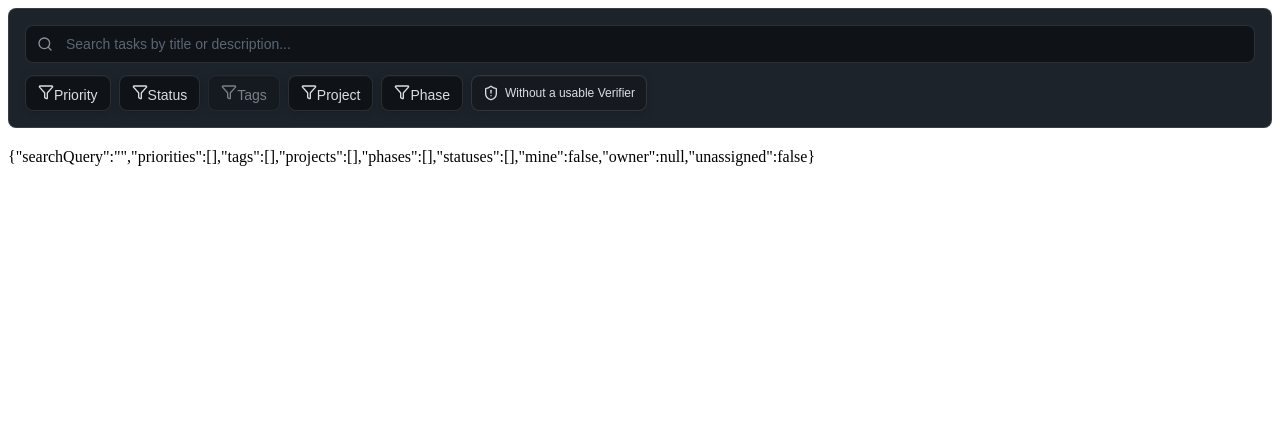
Test: "Search phases" — the Project search’s behaviour, on name and number › the clear button empties the query and returns focus to the box
This screenshot has width=1280, height=442.
Step 1. Click the button "Phase" → (422, 93), box [381,75,463,111]
Wait 20 ms
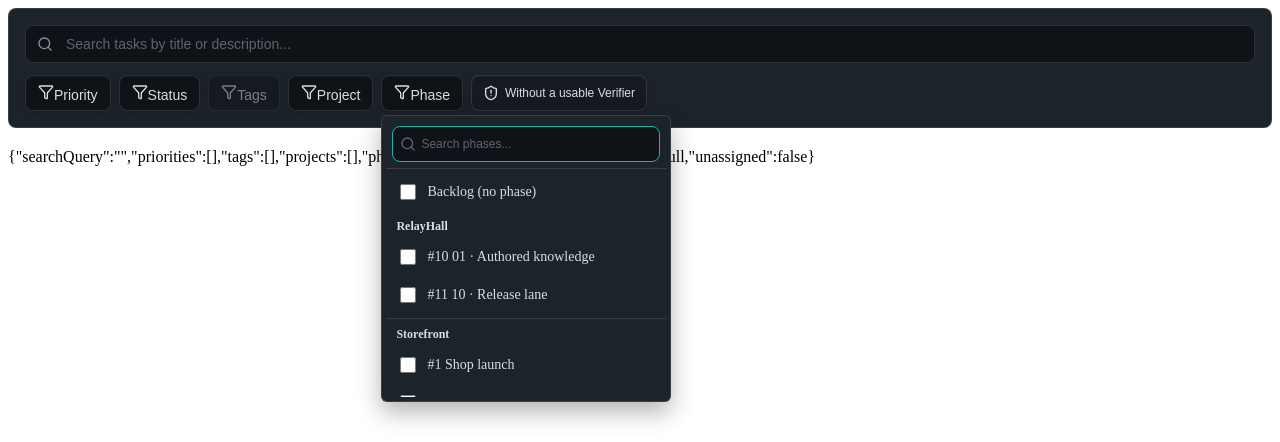
Step 2. Type "launch" into the field labelled "Search phases" → (526, 144), box [392,126,660,162]
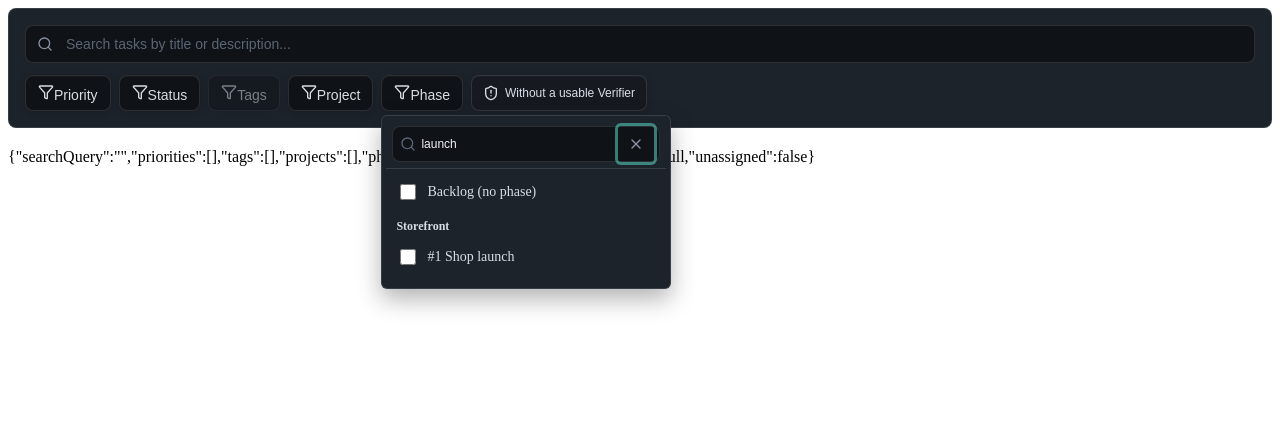
Step 3. Click the button named "Clear phase search" → (636, 144), box [618,126,654,162]
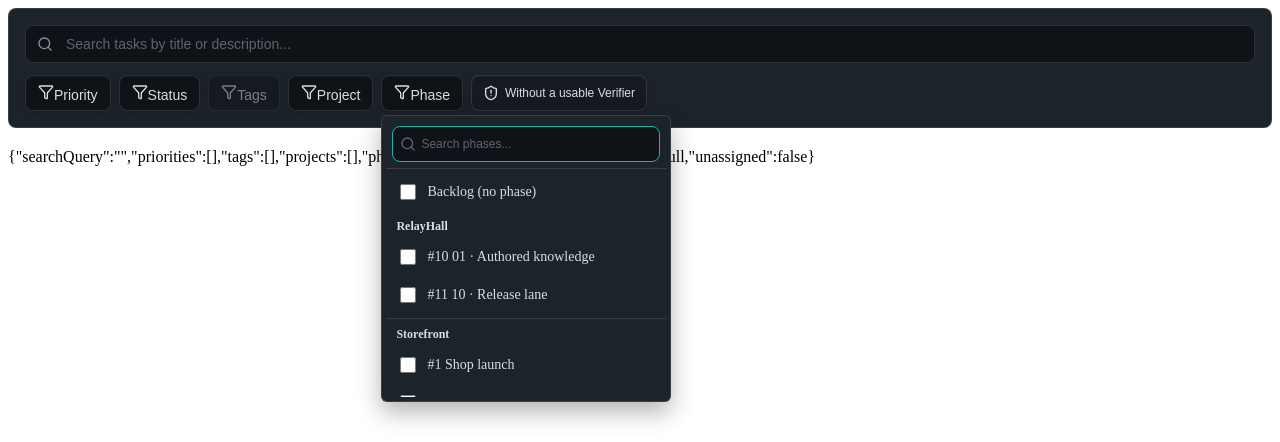
Expected: the field labelled "Search phases" is empty, [392,126,660,162]
Expected: the number of checkboxes is 5
